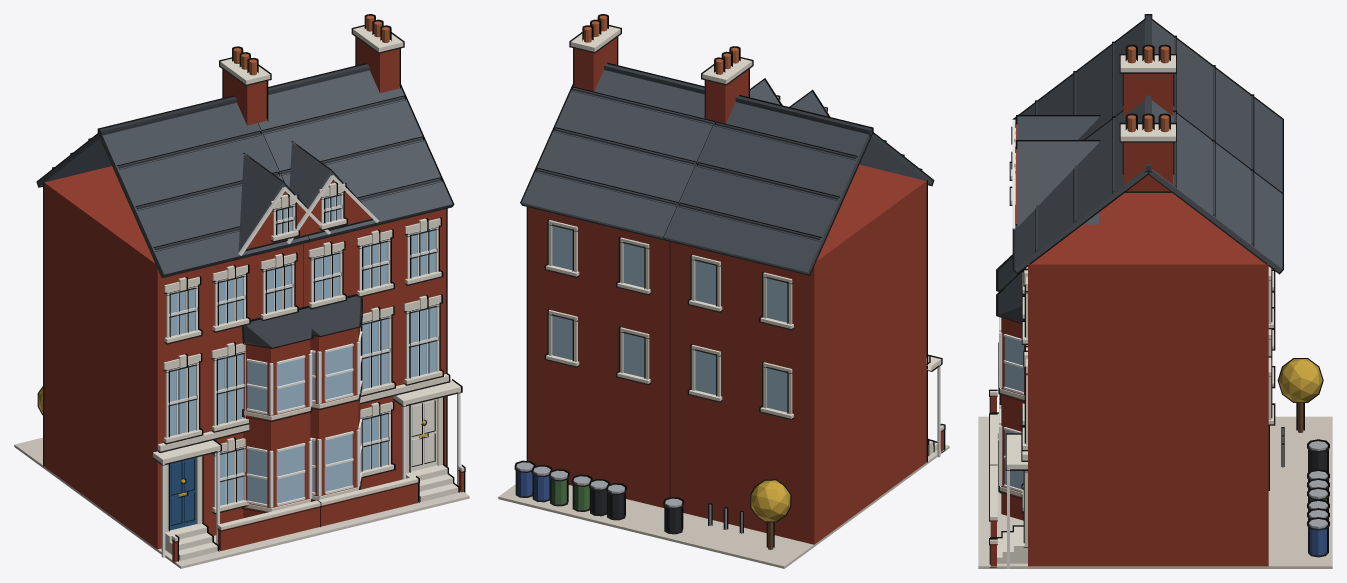
Rendered from Blok_duz_3k_2.fbx.
3 views of the same model, side by side, from view 1: azimuth 30°, elevation 25°; view 2: azimuth 150°, elevation 25°; view 3: azimuth 270°, elevation 25° (orthographic). The views are drawn at different scales.
Parts seen in each view (by area): view 1: Blok_duz_3k_2; view 2: Blok_duz_3k_2; view 3: Blok_duz_3k_2.
Boxes of the visible parts, box(x1,y1,x2,y2) form: Blok_duz_3k_2: box(14, 14, 469, 568); Blok_duz_3k_2: box(498, 14, 949, 568); Blok_duz_3k_2: box(978, 14, 1332, 568).
Bounding box in the file's own units: 10.39 × 13.93 × 10.
